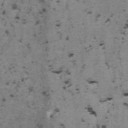oxide scale of temperature system: (2, 0, 128, 128)
